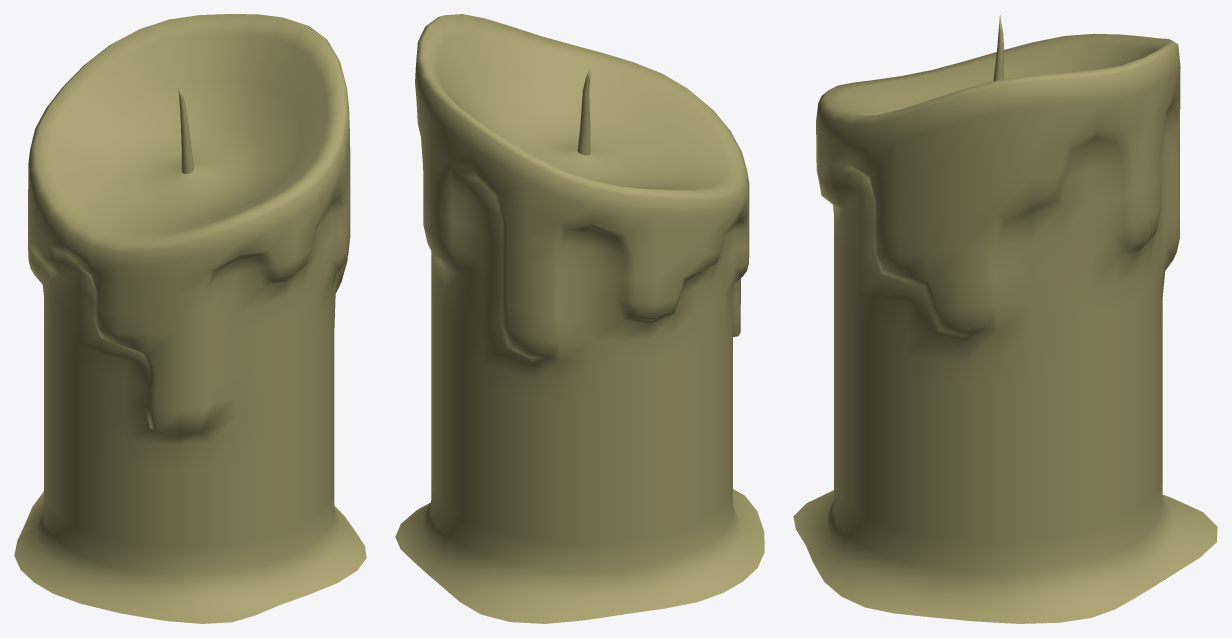
Rendered from candle_high_poly.FBX.
The picture shows the model from 3 angles, left to right: view 1: azimuth 30°, elevation 25°; view 2: azimuth 150°, elevation 25°; view 3: azimuth 270°, elevation 25°; orthographic projection. The views are drawn at different scales.
Parts seen in each view (by area): view 1: Cylinder001; view 2: Cylinder001; view 3: Cylinder001.
Boxes of the visible parts, x1,y1,x2,y2 form: Cylinder001: (14,14,366,623); Cylinder001: (395,14,764,623); Cylinder001: (793,15,1217,623).
Size of the model in its own units: 15.82 by 23.67 by 16.88.
